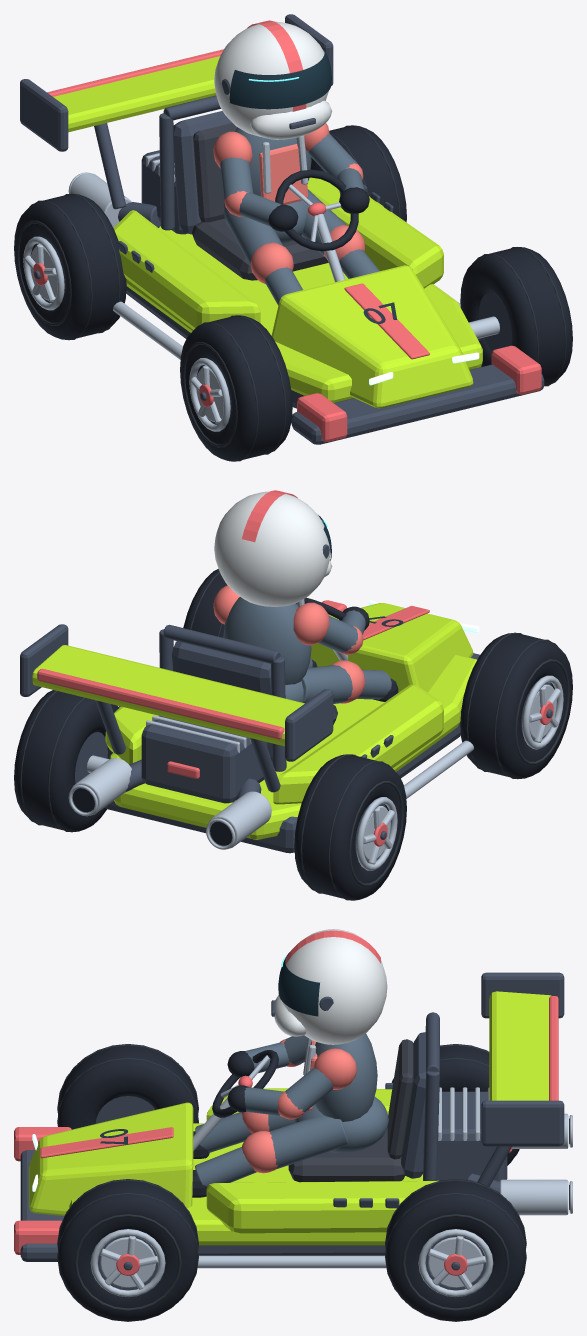
The model's file is kart.glb.
The picture shows the model from 3 angles, top to bottom: view 1: azimuth 30°, elevation 25°; view 2: azimuth 150°, elevation 25°; view 3: azimuth 270°, elevation 25°; orthographic projection.
Visible parts, largest first — view 1: NeonKart_Body, NeonKart_DarkMetal, Wheel_FL_Rubber, Wheel_RL_Rubber, Wheel_FR_Rubber, NeonKart_Suit, NeonKart_Accent, NeonKart_Helmet, NeonKart_SuitAccent, NeonKart_Seat, NeonKart_Metal, NeonKart_Visor (+8 smaller); view 2: NeonKart_Body, NeonKart_DarkMetal, Wheel_RL_Rubber, Wheel_FL_Rubber, NeonKart_Helmet, Wheel_RR_Rubber, NeonKart_Suit, NeonKart_Metal, NeonKart_Accent, NeonKart_SuitAccent, Wheel_FL_Metal, Wheel_RL_Metal (+6 smaller); view 3: NeonKart_Body, NeonKart_DarkMetal, NeonKart_Suit, Wheel_RR_Rubber, Wheel_FR_Rubber, NeonKart_Helmet, NeonKart_Metal, Wheel_FL_Rubber, NeonKart_Seat, NeonKart_Accent, Wheel_RR_Metal, NeonKart_SuitAccent (+8 smaller).
Part boxes in pixels (x1,y1,x2,y2): NeonKart_Body: (53, 56, 482, 408); NeonKart_DarkMetal: (20, 14, 544, 444); Wheel_FL_Rubber: (180, 315, 292, 461); Wheel_RL_Rubber: (14, 193, 126, 340); Wheel_FR_Rubber: (460, 247, 572, 386); NeonKart_Suit: (220, 127, 379, 305); NeonKart_Accent: (47, 20, 541, 441); NeonKart_Helmet: (214, 21, 332, 139); NeonKart_SuitAccent: (213, 123, 365, 284); NeonKart_Seat: (192, 123, 328, 280); NeonKart_Metal: (68, 135, 499, 359); NeonKart_Visor: (229, 49, 331, 109); NeonKart_Body: (32, 603, 476, 839); NeonKart_DarkMetal: (20, 544, 479, 853); Wheel_RL_Rubber: (294, 754, 406, 900); Wheel_FL_Rubber: (460, 632, 572, 779); NeonKart_Helmet: (214, 491, 332, 606); Wheel_RR_Rubber: (14, 690, 119, 832); NeonKart_Suit: (223, 597, 391, 703); NeonKart_Metal: (68, 599, 473, 849); NeonKart_Accent: (37, 490, 429, 778); NeonKart_SuitAccent: (213, 585, 365, 703); Wheel_FL_Metal: (522, 675, 563, 749); Wheel_RL_Metal: (356, 797, 397, 870); NeonKart_Body: (29, 991, 551, 1245); NeonKart_DarkMetal: (20, 972, 564, 1261); NeonKart_Suit: (195, 1033, 388, 1186); Wheel_RR_Rubber: (385, 1179, 525, 1321); Wheel_FR_Rubber: (58, 1179, 198, 1321); NeonKart_Helmet: (274, 929, 387, 1044); NeonKart_Metal: (193, 1038, 572, 1268); Wheel_FL_Rubber: (58, 1044, 198, 1129); NeonKart_Seat: (288, 1039, 413, 1182); NeonKart_Accent: (14, 930, 558, 1254); Wheel_RR_Metal: (418, 1229, 493, 1297); NeonKart_SuitAccent: (241, 1039, 357, 1173).
Size of the model in its own units: 2.45 by 2.12 by 3.43.
